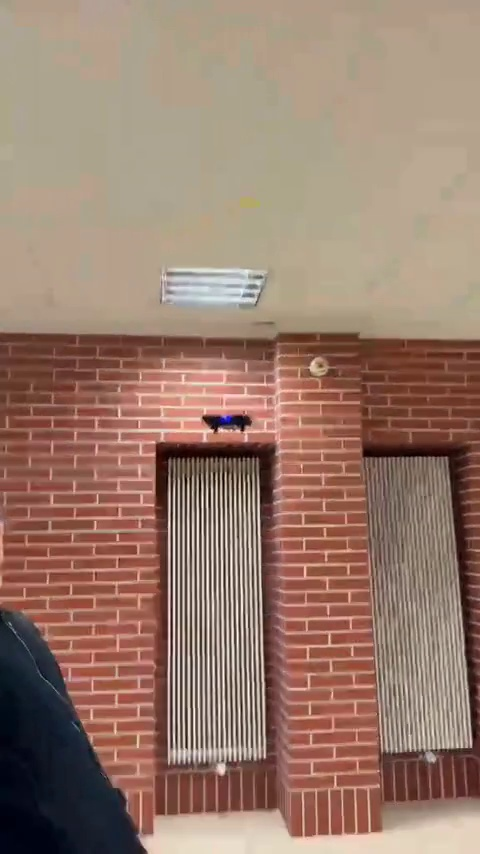drone: (200, 411, 252, 431)
